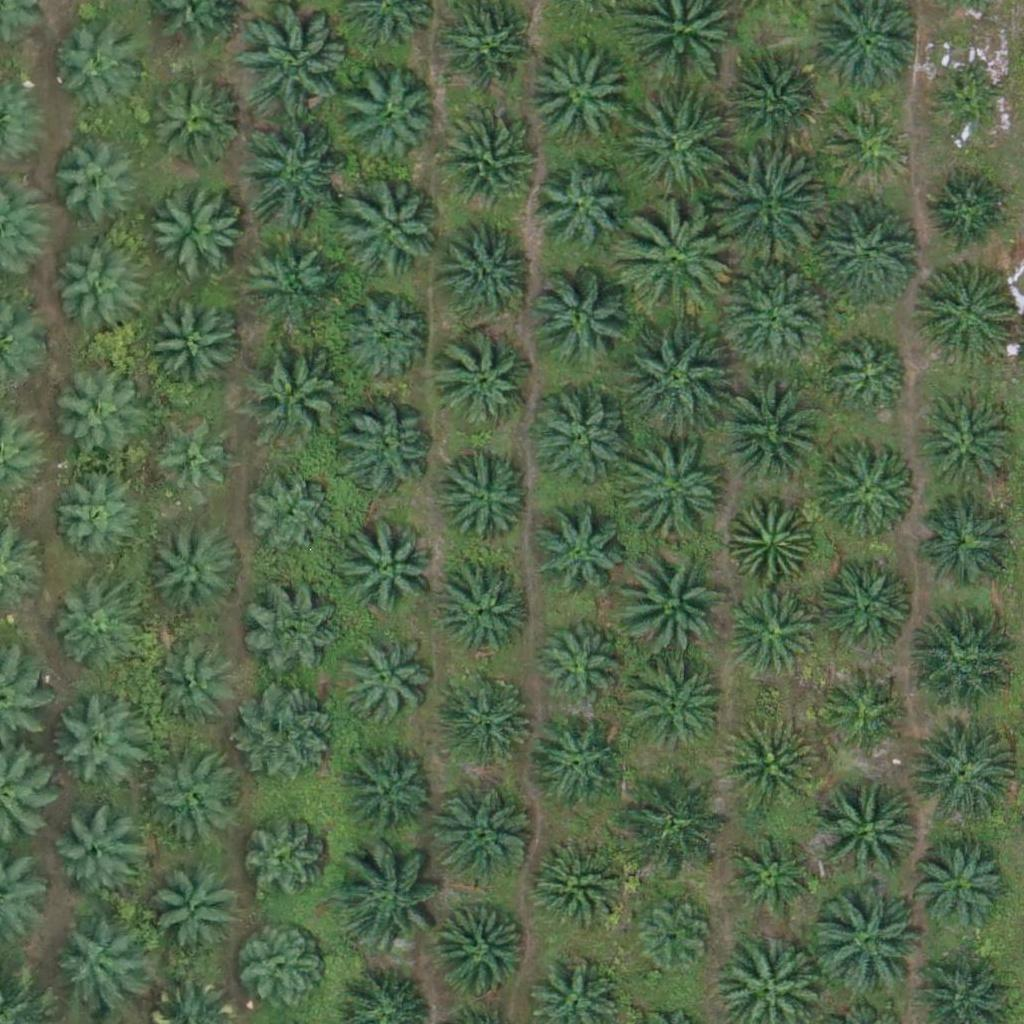Kelapa_Sawit: (616, 90, 729, 204), (810, 890, 923, 1003), (336, 846, 449, 959), (621, 762, 734, 875), (621, 437, 734, 550), (620, 321, 733, 434), (721, 258, 833, 372), (816, 775, 928, 889), (234, 117, 346, 230), (620, 651, 732, 764), (615, 541, 727, 654), (618, 204, 730, 317), (708, 152, 820, 265), (713, 373, 825, 486), (811, 193, 923, 306), (902, 604, 1014, 717), (903, 718, 1015, 831), (240, 6, 352, 119), (910, 840, 1010, 941), (524, 836, 624, 937), (48, 362, 148, 463), (142, 745, 242, 846), (143, 296, 243, 397), (145, 177, 245, 278), (141, 68, 241, 169), (240, 229, 340, 330), (243, 340, 343, 441), (242, 578, 342, 679), (240, 682, 340, 783), (337, 63, 437, 164), (343, 517, 443, 618), (336, 632, 436, 733), (340, 741, 440, 842), (434, 784, 534, 885), (433, 560, 533, 661), (435, 331, 535, 432), (436, 107, 536, 208), (533, 158, 633, 259), (531, 268, 631, 369), (526, 504, 626, 605), (529, 716, 629, 817), (719, 715, 819, 816), (818, 559, 918, 660), (817, 435, 917, 536), (919, 399, 1019, 500), (917, 490, 1017, 591), (431, 903, 531, 1003), (49, 688, 149, 788), (342, 182, 442, 282), (333, 399, 433, 499), (441, 671, 541, 771), (436, 447, 536, 547), (443, 218, 543, 318), (527, 49, 627, 149), (530, 386, 630, 486), (723, 53, 823, 153), (916, 261, 1016, 361), (632, 893, 720, 981), (51, 807, 139, 895), (52, 923, 140, 1011), (53, 138, 141, 226), (53, 245, 141, 333), (50, 478, 138, 566), (152, 522, 240, 610), (247, 472, 335, 560), (730, 585, 818, 673), (726, 836, 814, 924), (824, 660, 912, 748), (146, 415, 233, 504), (242, 821, 329, 909), (239, 930, 326, 1018), (148, 867, 235, 955), (825, 101, 912, 189), (49, 585, 136, 673), (147, 643, 234, 731), (342, 293, 429, 381), (536, 618, 623, 706), (728, 493, 815, 581), (829, 335, 916, 423), (924, 165, 1011, 253), (46, 27, 133, 115), (934, 71, 1009, 146)
